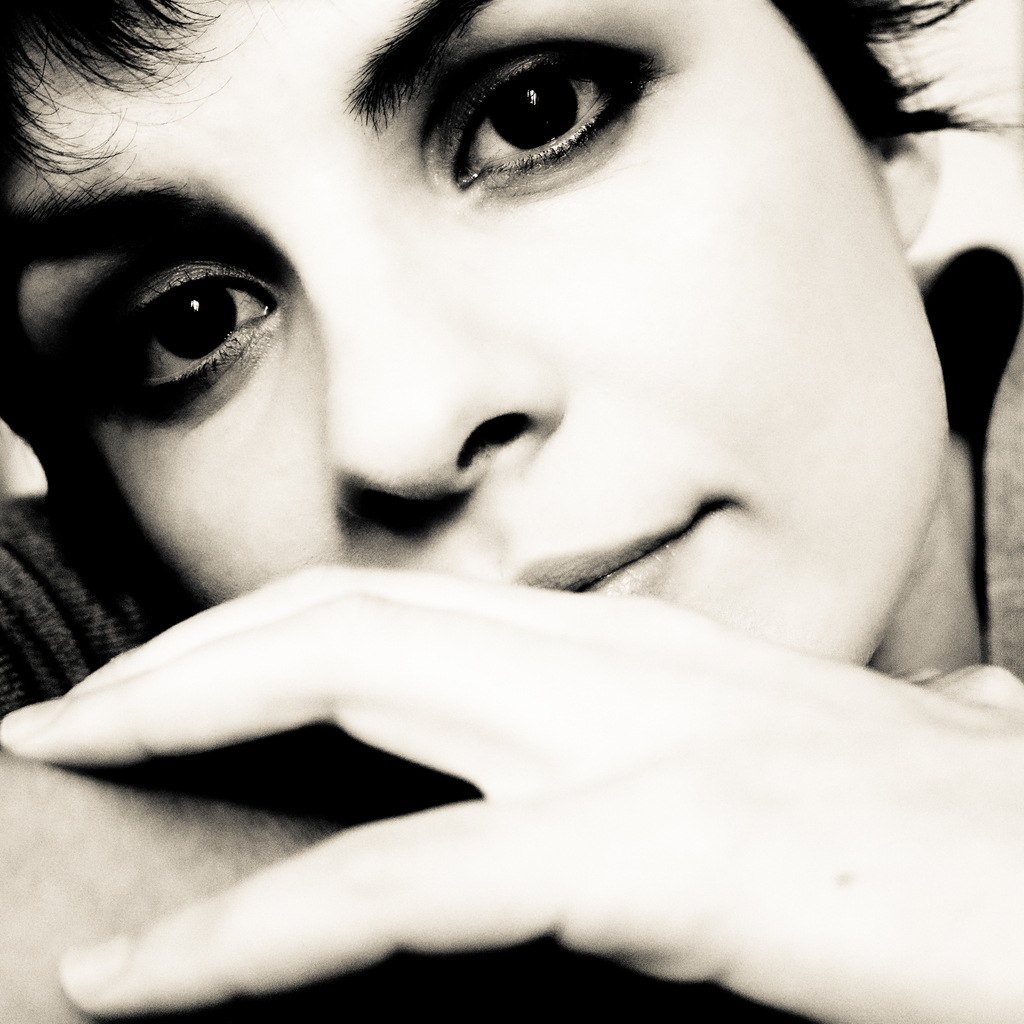Human_hand: (72, 553, 970, 1024)
